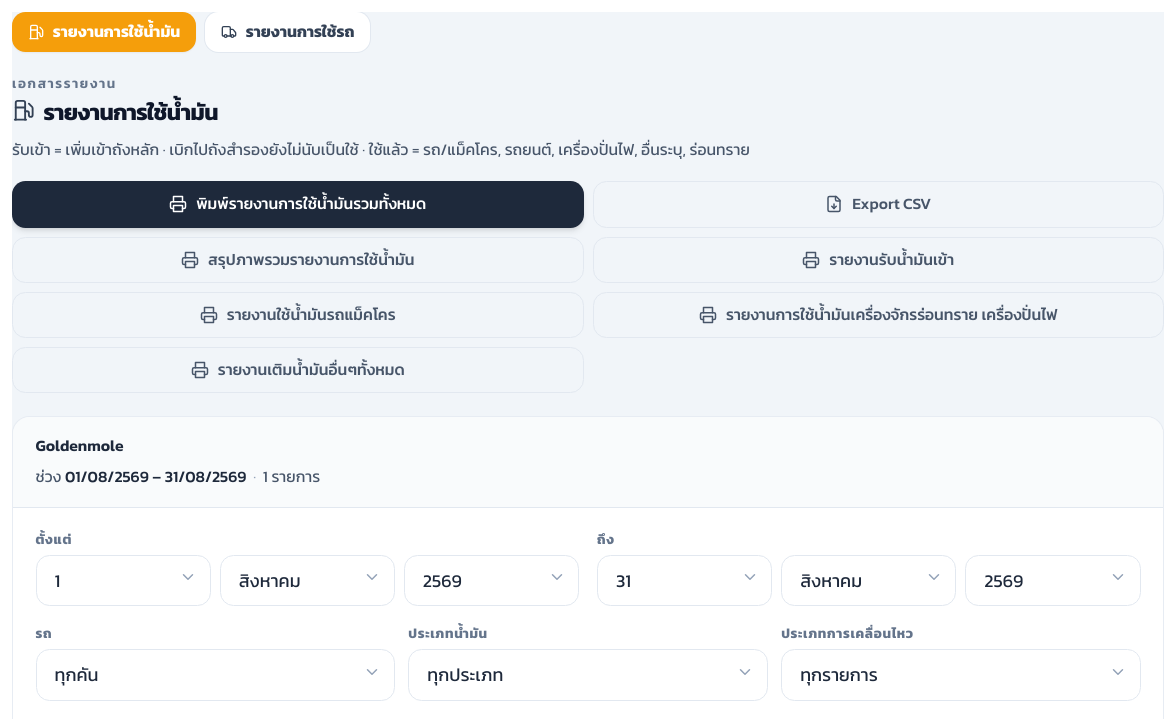
ReportsModule › recalculates display when the selected month range changes
The image size is (1176, 719).
Step 1. Select "กรกฎาคม" in the dropdown named "ตั้งแต่ เดือน" → (307, 581), box [220,555,395,606]
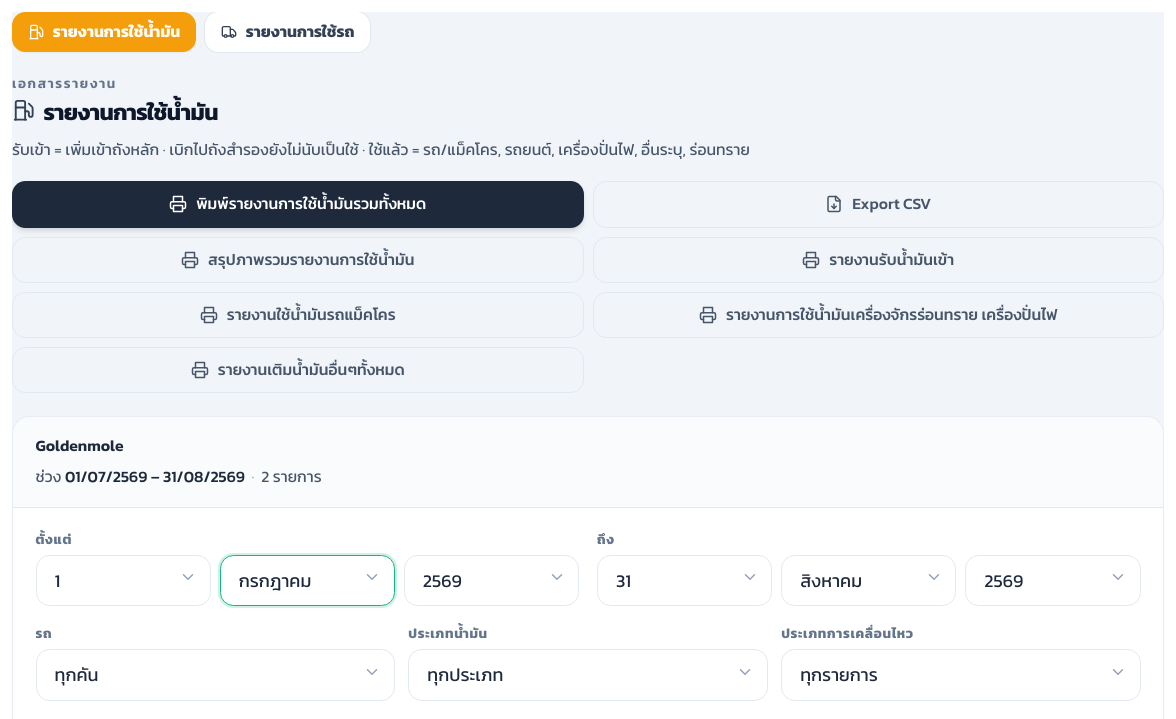
Step 2. Select "กรกฎาคม" in the dropdown named "ถึง เดือน" → (869, 581), box [781,555,956,606]
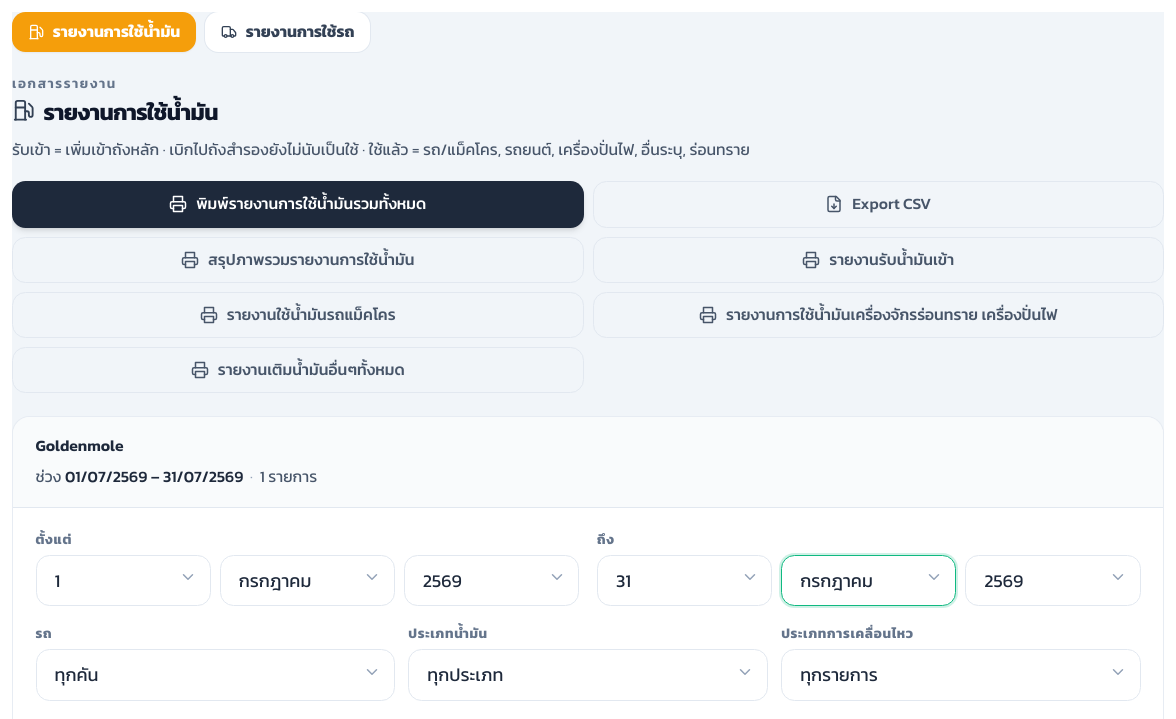
Expected: the text "01/07/2569 – 31/07/2569" is shown, [65,465,243,488]
